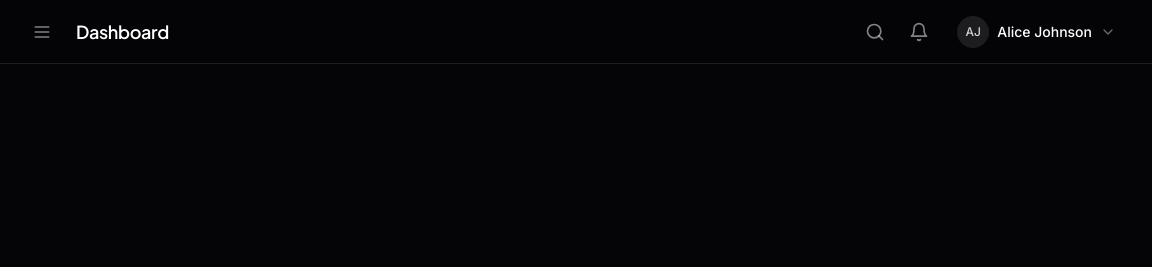
Test: Header › opening notifications closes user menu
Click the button with aria-label "User menu".
click(1037, 32)  # box [945,10,1128,54]
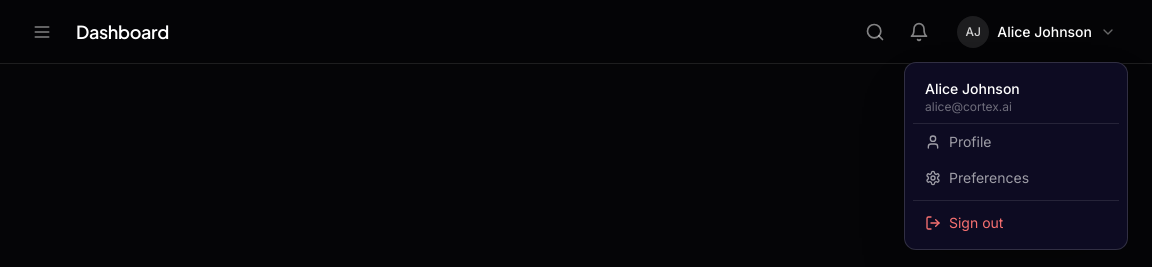
Check: the menu item "Sign out" is shown, box [913,204,1119,240]
Click the button named "Notifications".
click(919, 32)  # box [901,14,937,50]
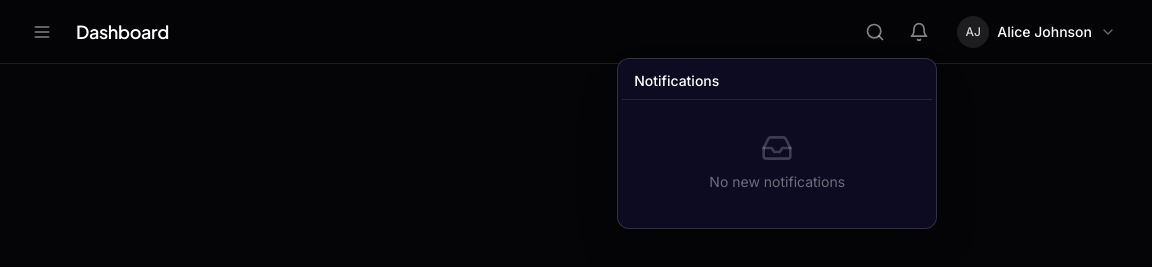
Check: the menu item "Sign out" is gone
Check: the text "No new notifications" is shown, box [709,172,845,192]
